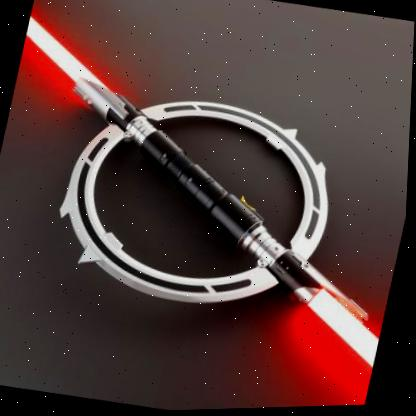sith_lightsaber: (0, 2, 415, 384)
